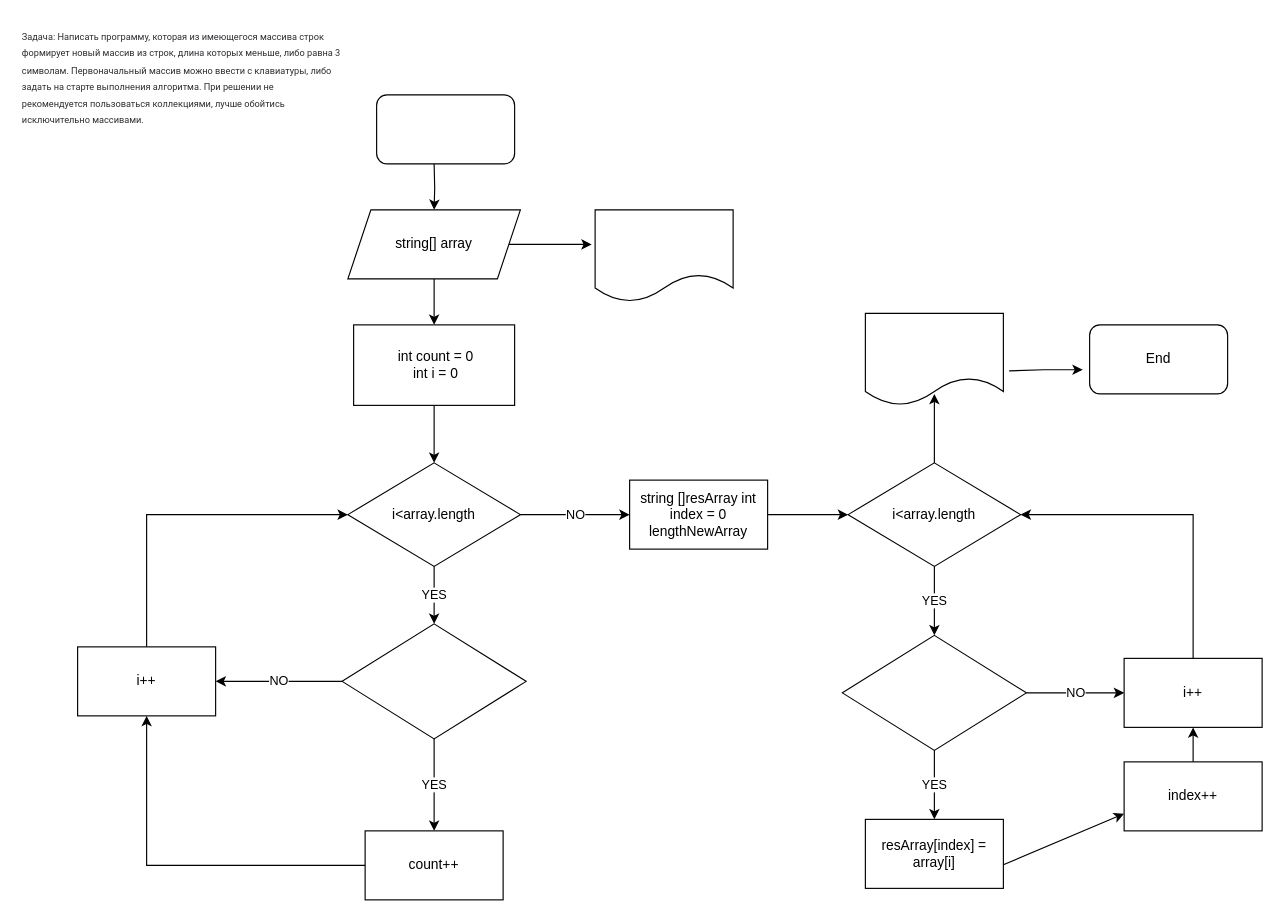
The diagram is 1282 pixels wide and 920 high, and some of its shapes have lost their labels. Here are the shapes that lost their labels. From the top down, the centre of each, then its label:
At pixel 445 129: "Start".
At pixel 663 255: "print string[]array".
At pixel 933 358: "print string []resArtay".
At pixel 433 681: "array[i].length <= size".
At pixel 933 692: "array[I].lenght<=3".
